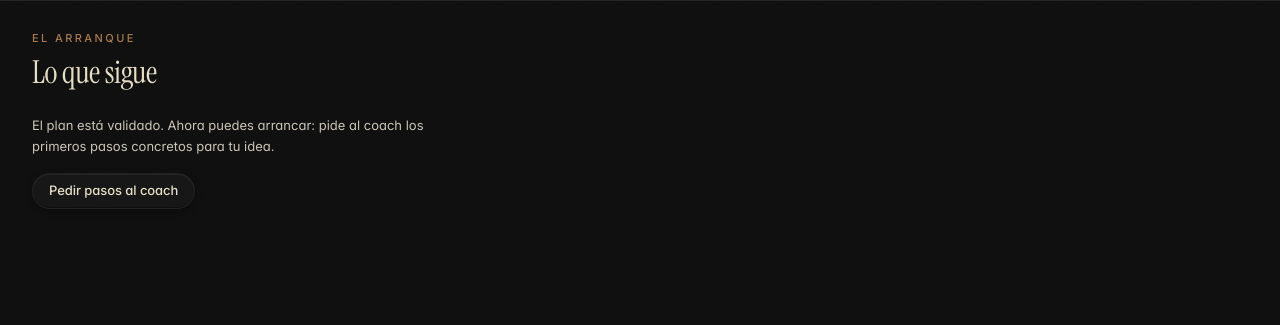
Test: ArranqueSection — the steps the coach and the person agreed on › removes a discarded proposal without any request
The width and height of the screenshot is (1280, 325).
Expected: the text "El plan está validado" is shown, [32,117,424,154]
Click the button "Pedir pasos al coach".
click(114, 191)  # box [32,173,195,209]
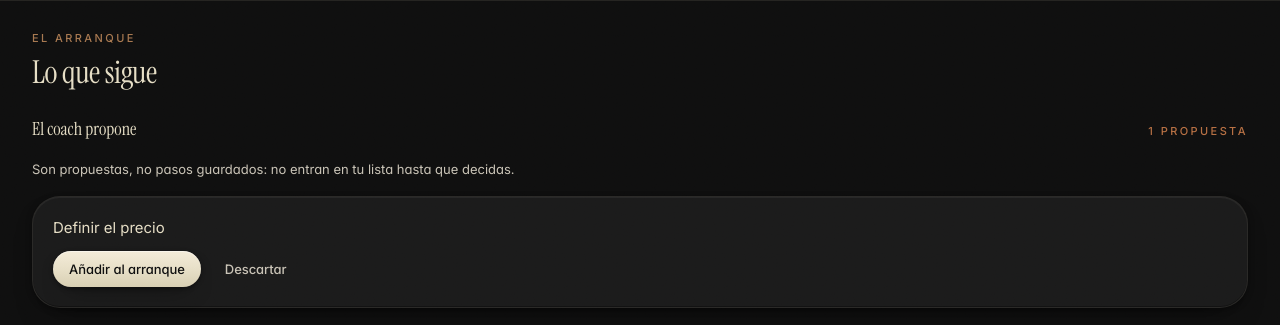
Click the button "Descartar".
click(256, 269)  # box [209,251,302,287]
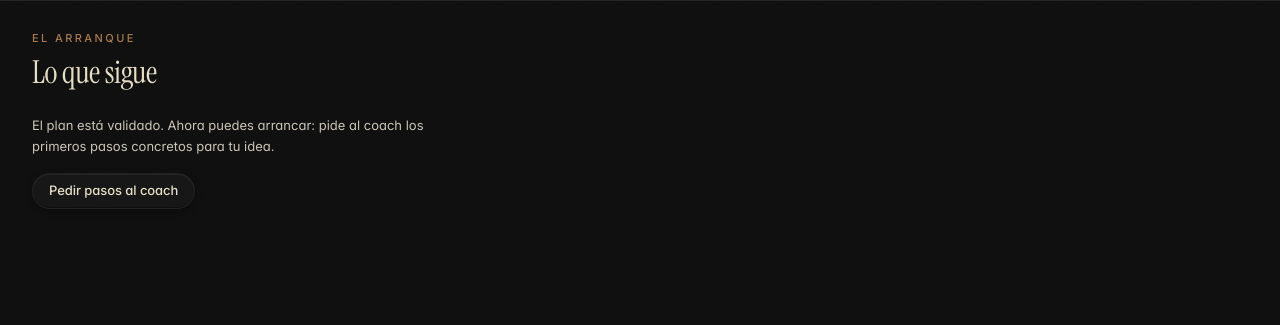
Expected: the text "Definir el precio" is gone
